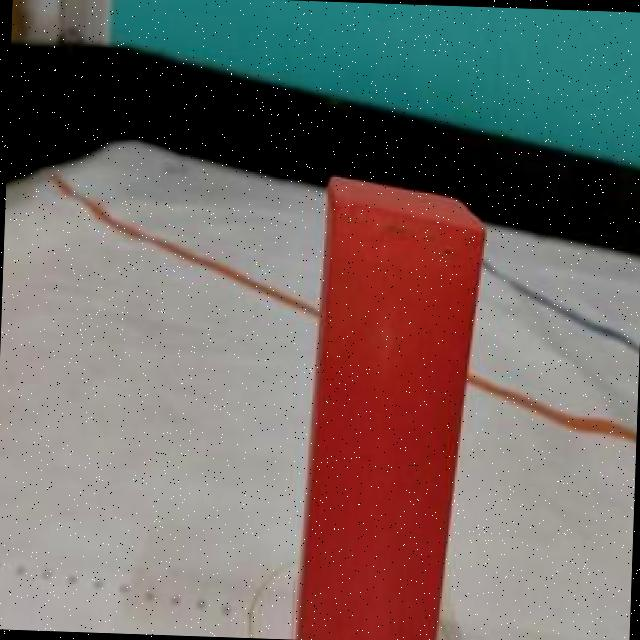redbox: (290, 169, 485, 640)
